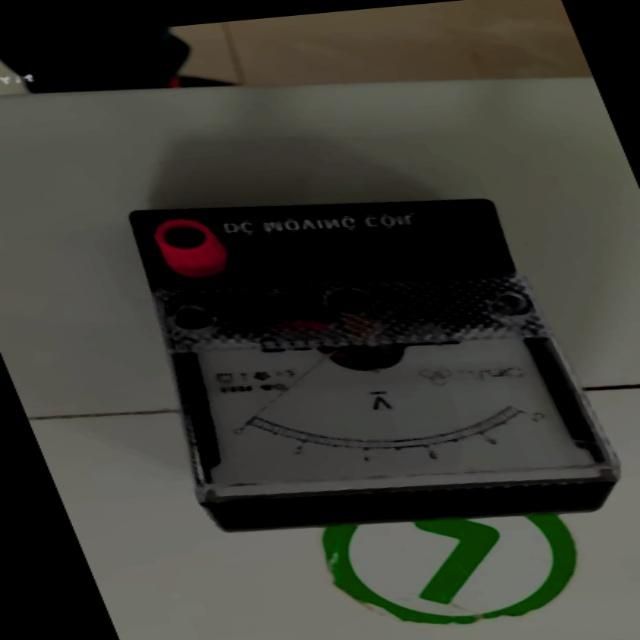Voltmeter: (52, 168, 638, 542)
